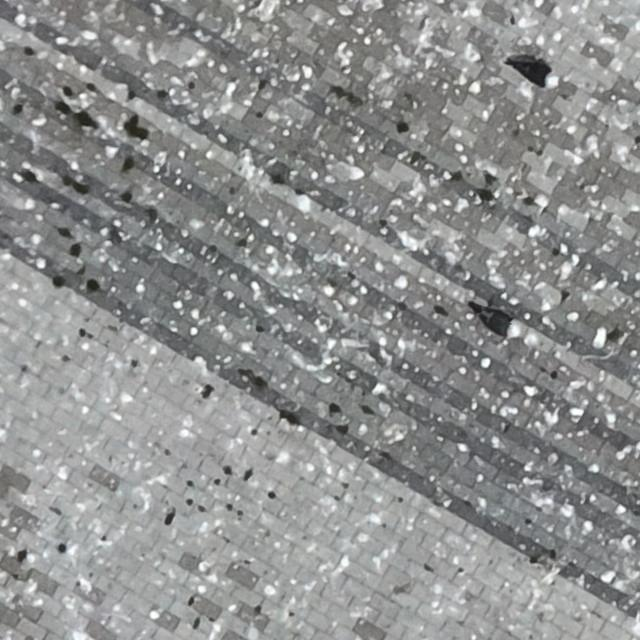umineko: (480, 309, 522, 334), (514, 62, 555, 85)
